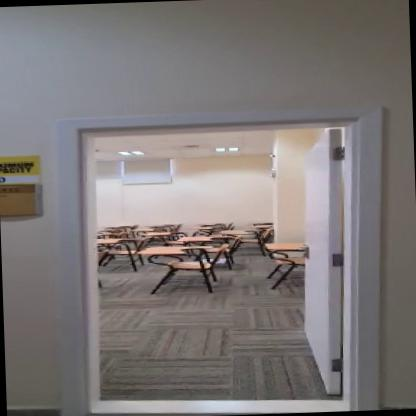open: (49, 87, 385, 416)
